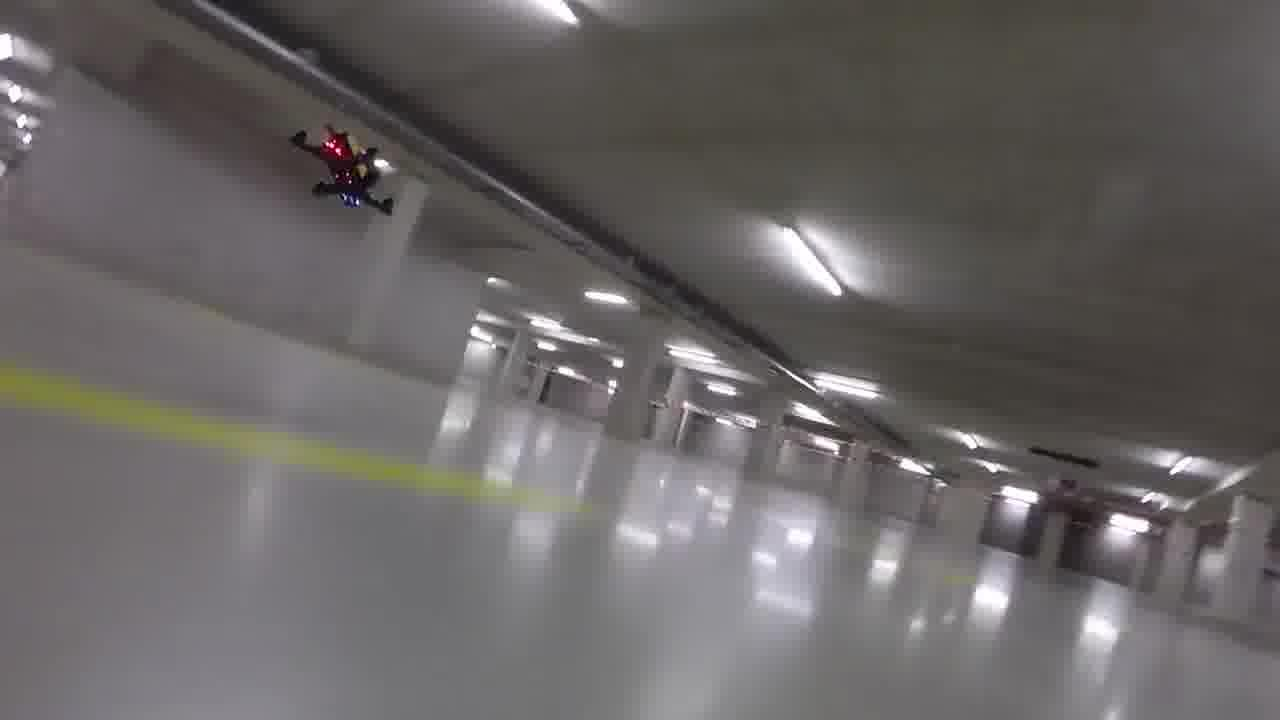drone: (265, 106, 432, 230)
